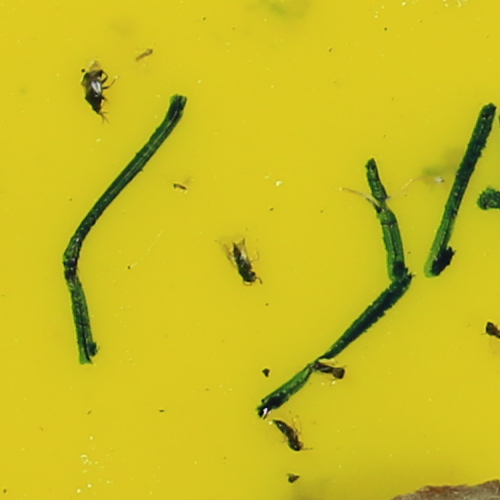wasp: (221, 237, 268, 290)
